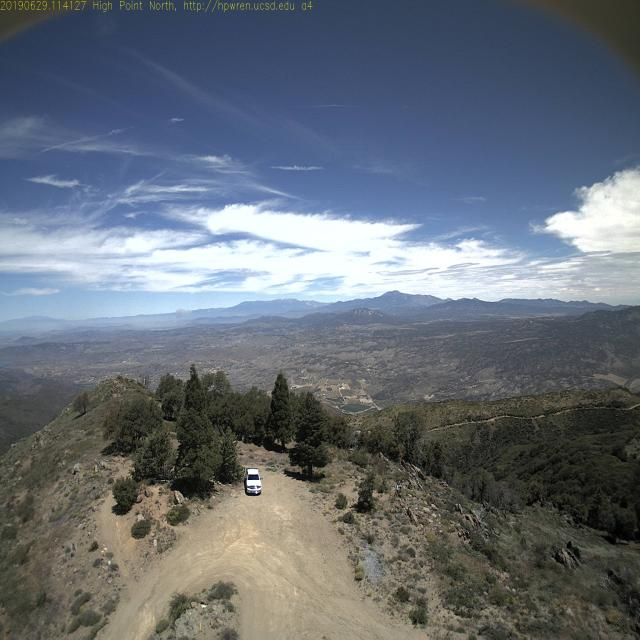smoke: (169, 302, 197, 328)
